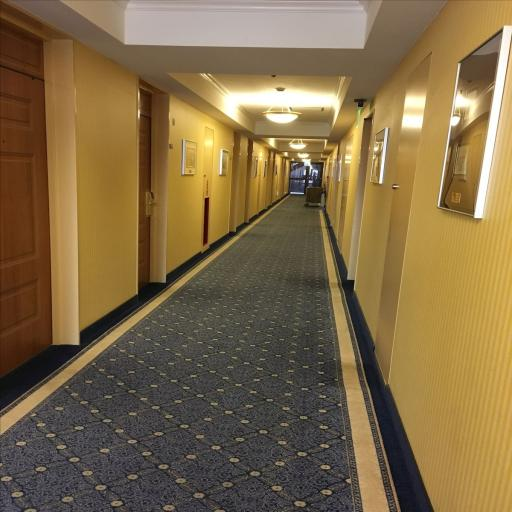car: (0, 0, 512, 512)
child: (0, 17, 52, 387), (136, 81, 156, 295)
